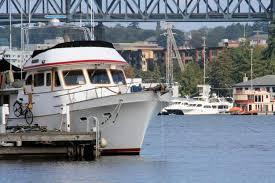Ship: (25, 42, 158, 151)
